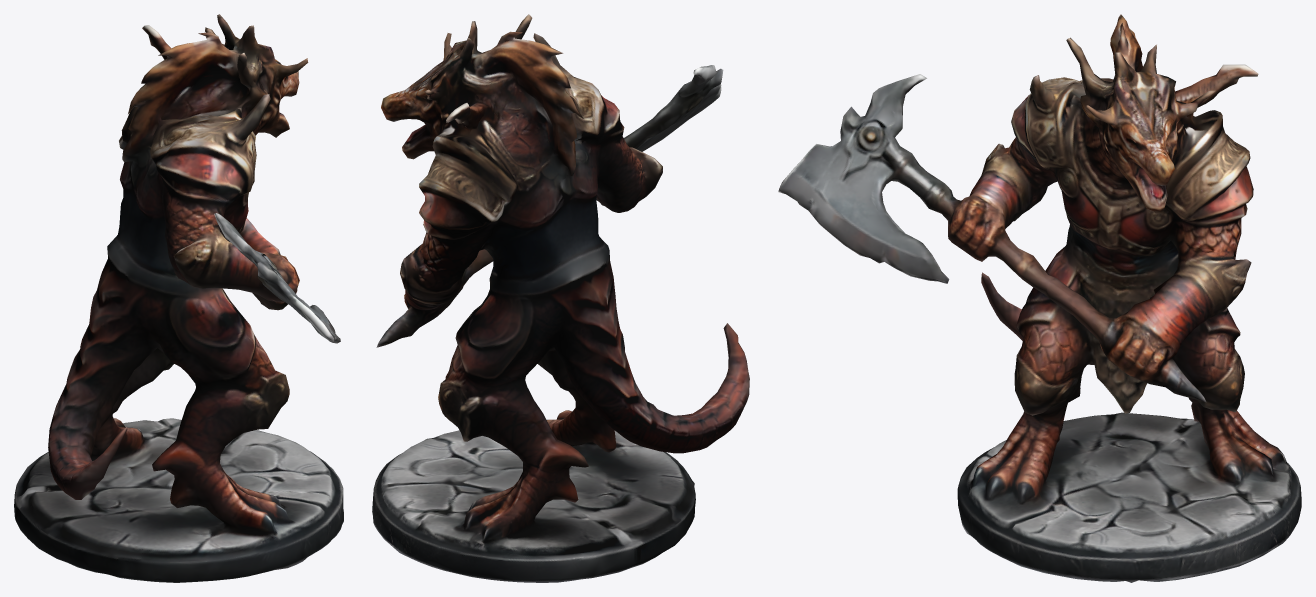
Rendered from arjhan.glb.
3 views of the same model, side by side, from view 1: azimuth 30°, elevation 25°; view 2: azimuth 150°, elevation 25°; view 3: azimuth 270°, elevation 25° (orthographic). The views are drawn at different scales.
Parts seen in each view (by area): view 1: lagrange_node; view 2: lagrange_node; view 3: lagrange_node.
Boxes of the visible parts, x1,y1,x2,y2 form: lagrange_node: [14, 14, 343, 582]; lagrange_node: [372, 14, 749, 582]; lagrange_node: [778, 14, 1301, 582].
Size of the model in its own units: 1.31 by 2 by 1.9.
1 material, 1 textured.
